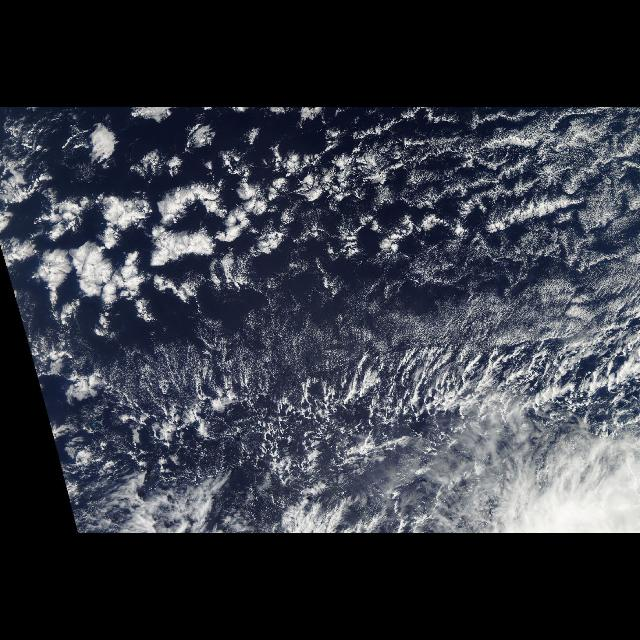Flower: (32, 107, 232, 319)
Gravel: (262, 361, 388, 482)
Sugar: (428, 136, 634, 316), (114, 334, 274, 410), (284, 276, 408, 354)
